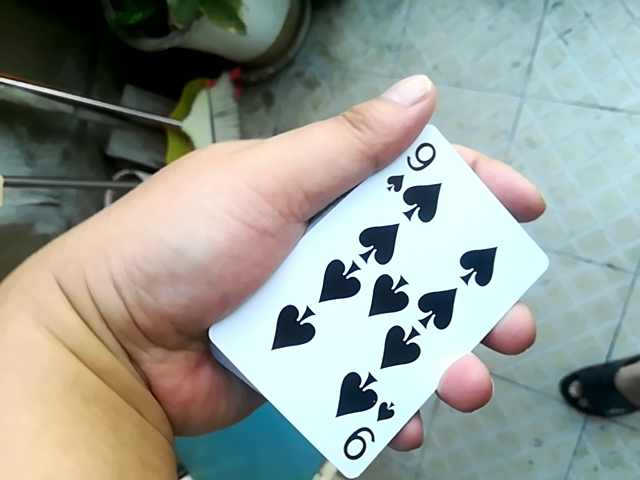ht 9: (200, 95, 554, 471)
